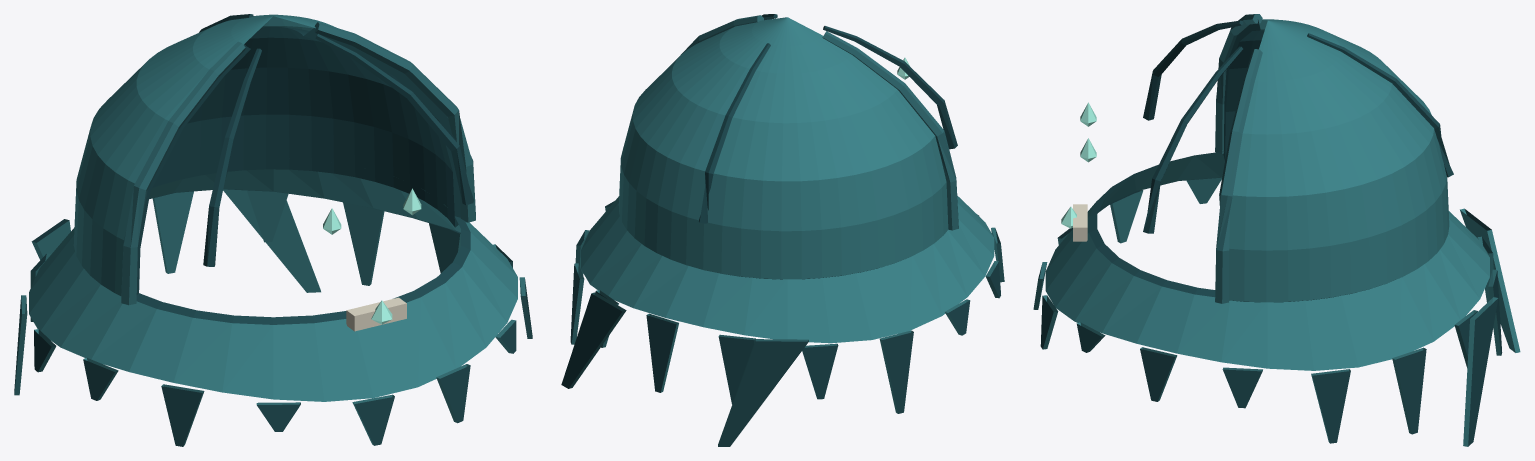
Rendered from phantom_hood.obj.
The picture shows the model from 3 angles, left to right: view 1: azimuth 30°, elevation 25°; view 2: azimuth 150°, elevation 25°; view 3: azimuth 270°, elevation 25°; orthographic projection. The views are drawn at different scales.
Parts seen in each view (by area): view 1: phantom_hood; view 2: phantom_hood; view 3: phantom_hood.
Boxes of the visible parts, x1,y1,x2,y2 form: phantom_hood: (14,14,532,446); phantom_hood: (561,14,1004,446); phantom_hood: (1033,14,1520,446).
Size of the model in its own units: 12.8 by 10.75 by 13.31.
